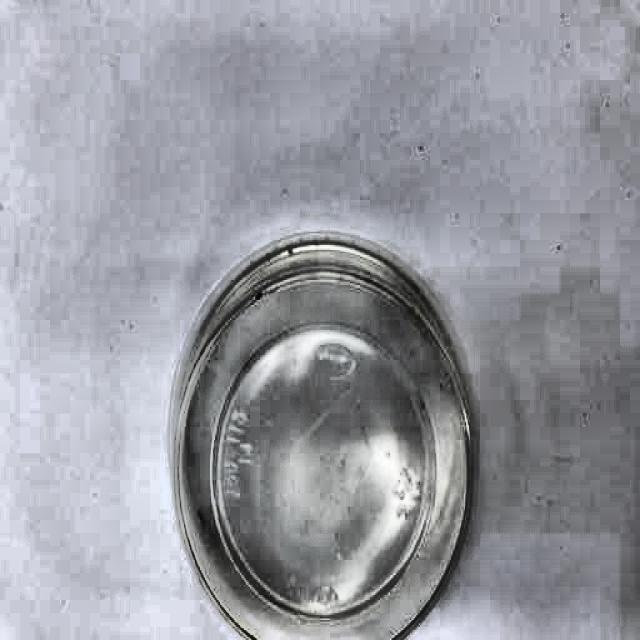plastic: (169, 230, 471, 640)
